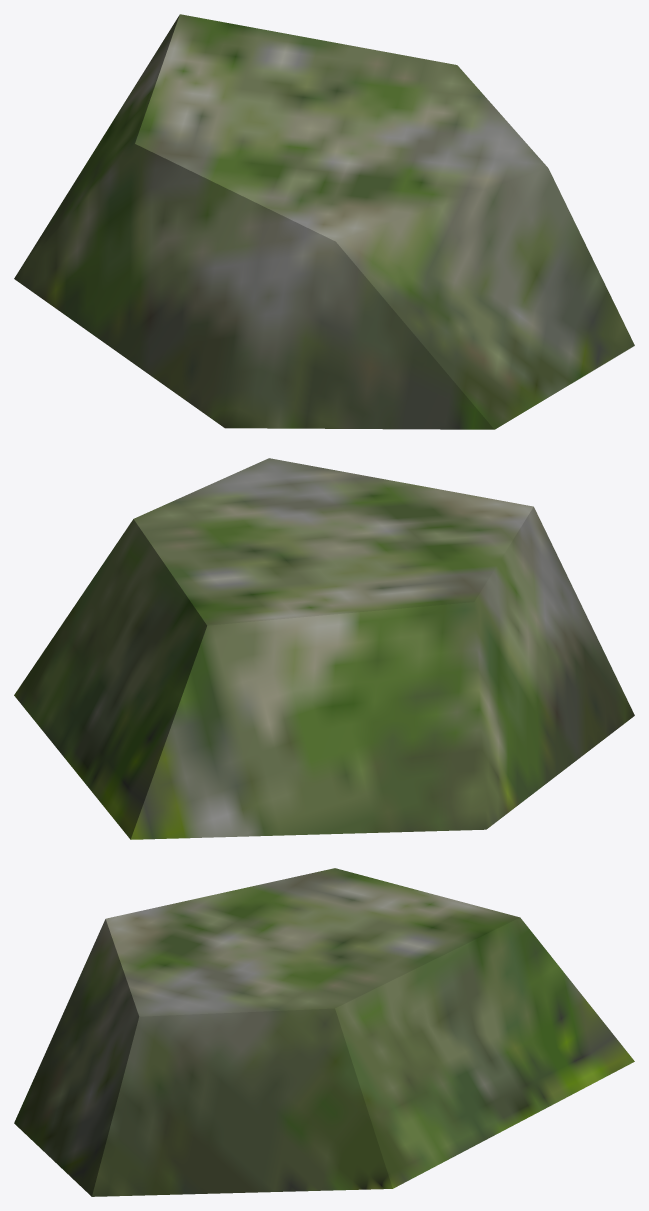
Rendered from 2014_Item_shitou_6.FBX.
3 renders of one model, top to bottom at view 1: azimuth 30°, elevation 25°; view 2: azimuth 150°, elevation 25°; view 3: azimuth 270°, elevation 25°, orthographic. The views are drawn at different scales.
Visible parts, largest first — view 1: 2014_Item_shitou_6; view 2: 2014_Item_shitou_6; view 3: 2014_Item_shitou_6.
Part boxes in pixels (bbox=[...]): 2014_Item_shitou_6: bbox=[14, 14, 634, 429]; 2014_Item_shitou_6: bbox=[14, 458, 634, 839]; 2014_Item_shitou_6: bbox=[14, 868, 634, 1196].
Bounding box in the file's own units: 135 × 59.14 × 173.
